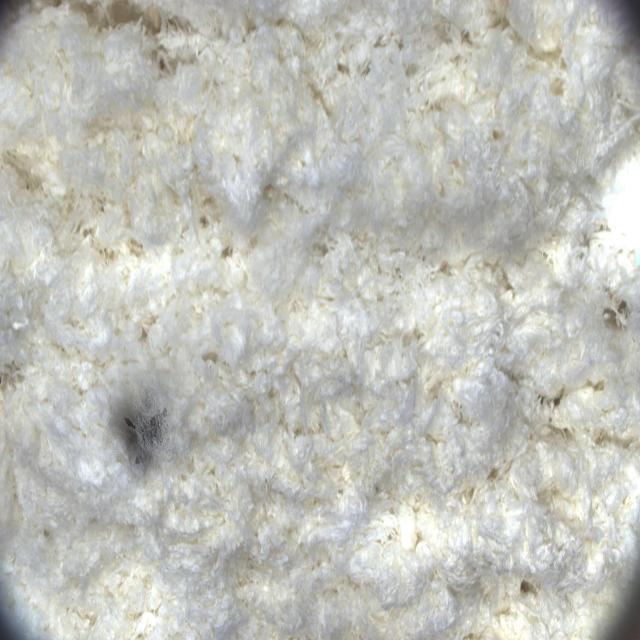dust: (63, 358, 200, 494)
